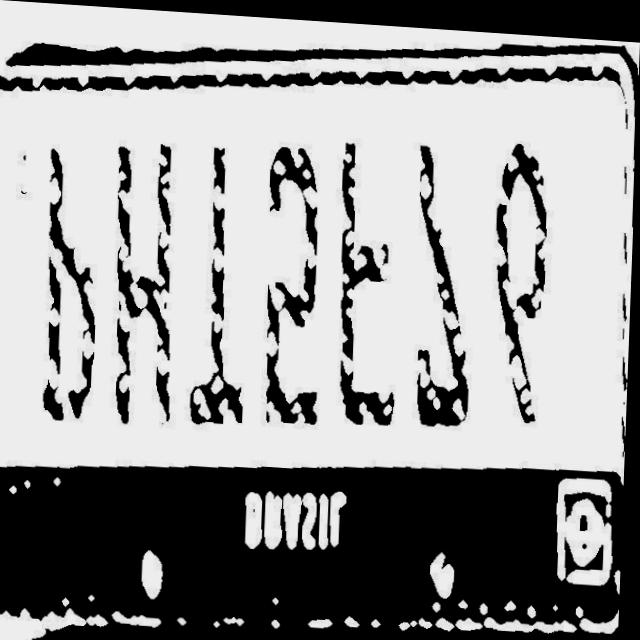5: (250, 134, 331, 440)
6: (489, 133, 569, 437)
7: (411, 143, 491, 460)
f: (331, 133, 411, 442)
h: (108, 120, 200, 431)
p: (40, 110, 114, 424)
t: (189, 120, 263, 434)
